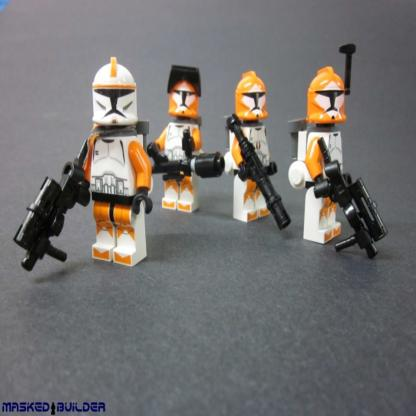Helmet: (90, 56, 140, 128), (303, 64, 348, 125), (232, 74, 270, 117), (167, 64, 201, 96)
